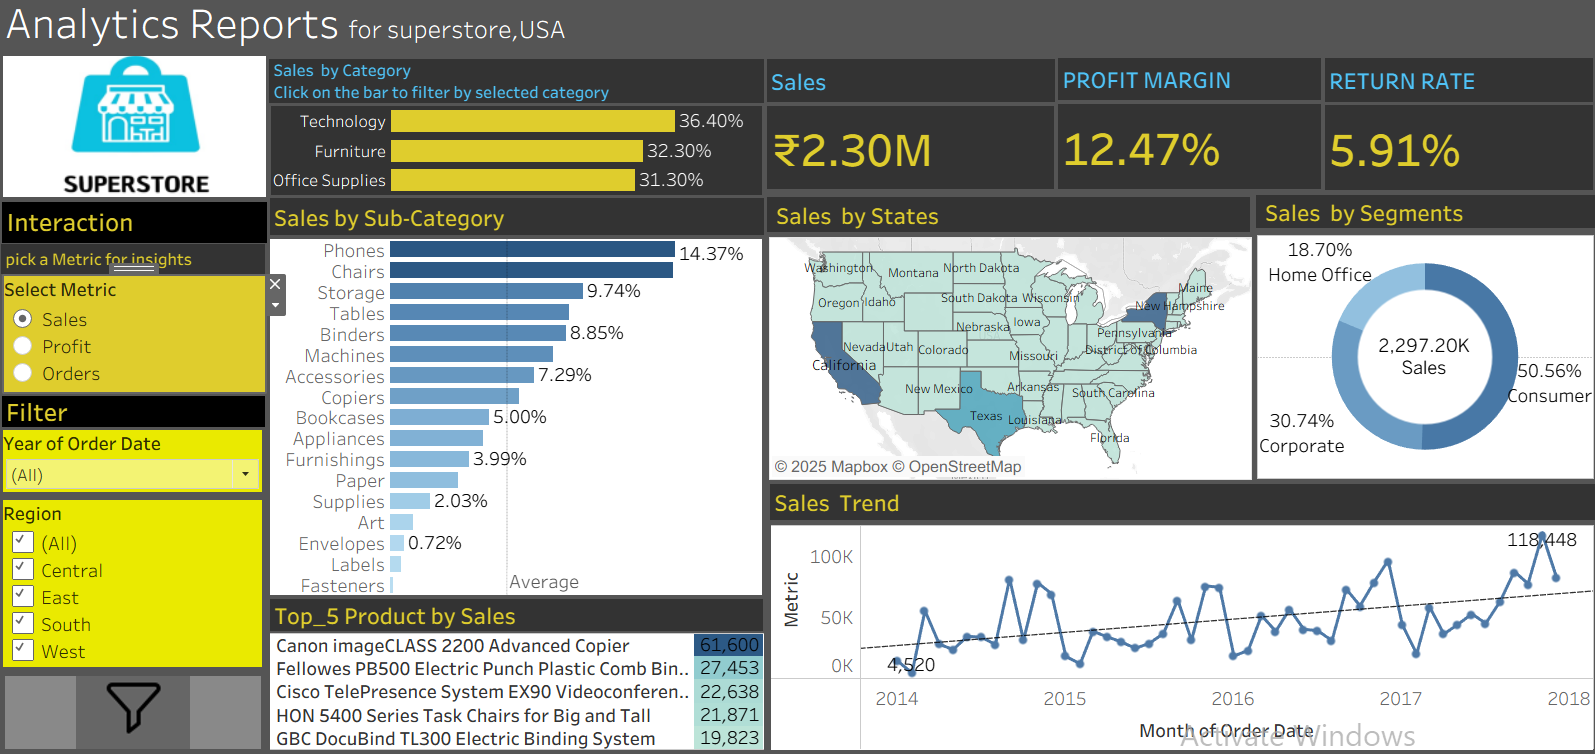

What the dashboard file says about the page in this screenshot:
{"tool":"tableau","page":{"name":"Dashboard 1","canvas":[1000,1000],"units":"permille","ordinal":0},"visuals":[{"type":"worksheet","title":"Sheet 19","mark":"Shape","box":[3.7,77.8,164.3,186]},{"type":"worksheet","title":"Profit Margin","mark":"Automatic","box":[661.5,80.5,164,55.4]},{"type":"worksheet","title":"Return rate ","mark":"Automatic","box":[827.9,80.5,167.1,58.1]},{"type":"worksheet","title":"category title","mark":"Automatic","box":[169.9,81.8,308.7,58.1]},{"type":"worksheet","title":"Sales_kpi title","mark":"Automatic","box":[480.1,81.8,179.6,56.7]},{"type":"worksheet","title":"Profit_kpi","mark":"Automatic","box":[661.5,141.2,164,112.1]},{"type":"worksheet","title":"Return_rate %","mark":"Automatic","box":[827.9,142.5,167.1,112.1]},{"type":"worksheet","title":"category by metric","mark":"Automatic","rows":["Category"],"cols":["Calculation_996421462422495233"],"box":[171.1,143.8,306.3,117.4]},{"type":"worksheet","title":"Sales_kpi","mark":"Automatic","box":[480.1,143.8,178.9,109.5]},{"type":"worksheet","title":"Segment title","mark":"Automatic","box":[784.9,261.2,211.4,43.5]},{"type":"worksheet","title":"States title","mark":"Automatic","box":[479.9,263.9,301.3,46.2]},{"type":"worksheet","title":"SubCategor","mark":"Automatic","box":[170.5,265.2,308.1,48.8]},{"type":"worksheet","title":"interaction","mark":"Automatic","box":[3.1,270.4,165.5,54.1]},{"type":"worksheet","title":"Pie chart","mark":"Automatic","rows":["Calculation_996421462454448131","Calculation_996421462454448131"],"box":[785.5,314,210.2,321.9]},{"type":"worksheet","title":"Map by metric","mark":"Multipolygon","box":[481.1,316.6,301.3,320.6]},{"type":"worksheet","title":"Subcategory by metric","mark":"Automatic","rows":["Sub-Category"],"cols":["Calculation_996421462422495233"],"box":[170.2,319.3,306.7,469.7]},{"type":"worksheet","title":"pick title","mark":"Automatic","box":[2.5,325.9,164.9,39.6]},{"type":"parameter","param":"[Parameters].[Parameter 1]","box":[4.3,368.1,163.1,153]},{"type":"worksheet","title":"filter title","mark":"Automatic","box":[3.1,526.4,164.3,40.9]},{"type":"filter","title":"Subcategory by metric","param":"[federated.1fiajoh17xl32g11avqmz1fylqw7].[yr:Order Date:ok]","box":[1.2,566,166.5,74.6]},{"type":"filter","title":"Subcategory by metric","param":"[federated.1fiajoh17xl32g11avqmz1fylqw7].[none:Region:nk]","box":[1.2,640.6,166.5,217.7]},{"type":"worksheet","title":"Sales trend title","mark":"Automatic","box":[481.7,642.5,514.6,47.5]},{"type":"worksheet","title":"trent by metric","mark":"Line","rows":["Calculation_996421462422495233","Calculation_996421462422495233"],"cols":["Order Date"],"box":[482.3,696.6,513.3,296.8]},{"type":"worksheet","title":"Top_5 title","mark":"Automatic","box":[170.2,794.2,307.4,42.2]},{"type":"worksheet","title":"top_5 product","mark":"Square","rows":["Product Name"],"box":[170.2,839.1,308,154.3]},{"type":"dashboard-object","box":[5,895.8,159.6,96.3]}]}

Visuals, with their boxes on the dashboard's canvas, which has no fixed pixel size, in thousandths of its width and height (x1, y1, x2, y2). These are canvas units, not pixel positions in the 1595x754 screenshot, which may show the page scaled, cropped or inside an application window:
"Sheet 19" worksheet (Shape marks): 4 78 168 264
"Profit Margin" worksheet: 662 80 826 136
"Return rate " worksheet: 828 80 995 139
"category title" worksheet: 170 82 479 140
"Sales_kpi title" worksheet: 480 82 660 138
"Profit_kpi" worksheet: 662 141 826 253
"Return_rate %" worksheet: 828 142 995 255
"category by metric" worksheet: 171 144 477 261
"Sales_kpi" worksheet: 480 144 659 253
"Segment title" worksheet: 785 261 996 305
"States title" worksheet: 480 264 781 310
"SubCategor" worksheet: 170 265 479 314
"interaction" worksheet: 3 270 169 324
"Pie chart" worksheet: 786 314 996 636
"Map by metric" worksheet (Multipolygon marks): 481 317 782 637
"Subcategory by metric" worksheet: 170 319 477 789
"pick title" worksheet: 2 326 167 366
parameter: 4 368 167 521
"filter title" worksheet: 3 526 167 567
"Subcategory by metric" filter: 1 566 168 641
"Subcategory by metric" filter: 1 641 168 858
"Sales trend title" worksheet: 482 642 996 690
"trent by metric" worksheet (Line marks): 482 697 996 993
"Top_5 title" worksheet: 170 794 478 836
"top_5 product" worksheet (Square marks): 170 839 478 993
dashboard-object: 5 896 165 992
